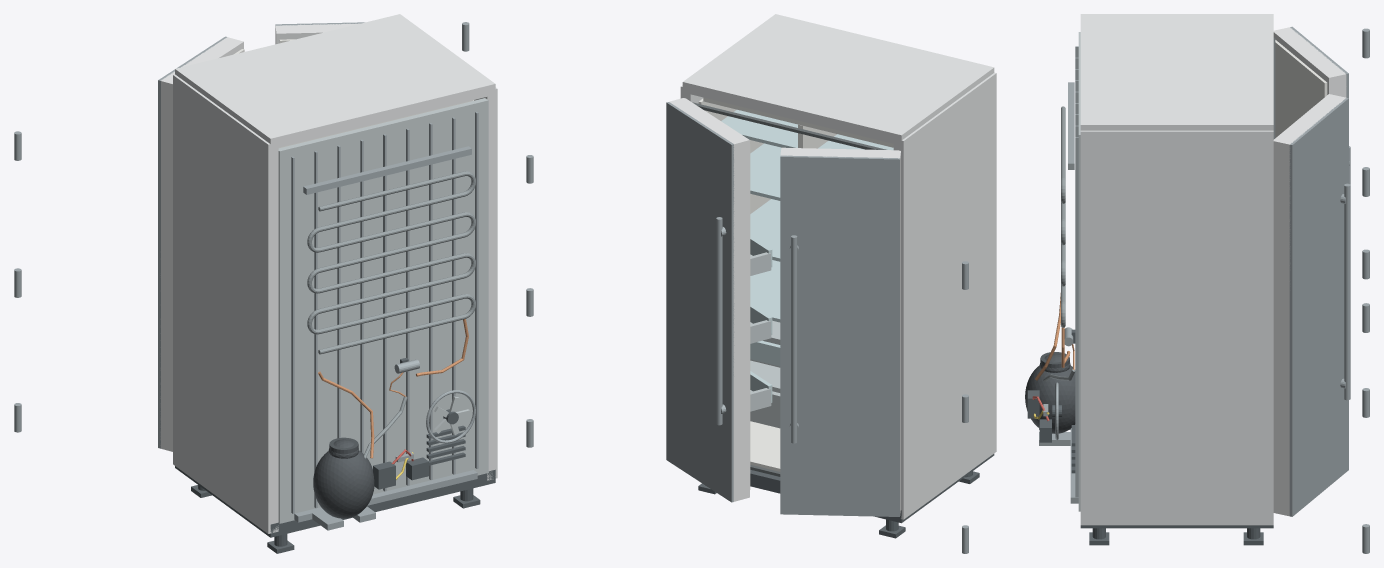
Rendered from Domestic_Refrigerator.glb.
The picture shows the model from 3 angles, left to right: view 1: azimuth 30°, elevation 25°; view 2: azimuth 150°, elevation 25°; view 3: azimuth 270°, elevation 25°; orthographic projection. The views are drawn at different scales.
Visible parts, largest first — view 1: Rear_Outer_Casing, Cabinet_Left_Side_Panel, Cabinet_Top_Panel, Condenser_Coil_Serpentine, Fresh_Food_Door_Panel, Cabinet_Right_Side_Panel, Compressor_Main_Shell, Cabinet_Base_Panel, Rear_Upper_Coil_Bracket, Rear_Casing_Vertical_Rib_1, Rear_Casing_Vertical_Rib_9, Rear_Lower_Cross_Bracket (+9 smaller); view 2: Fresh_Food_Door_Outer_Trim, Cabinet_Left_Side_Panel, Freezer_Door_Outer_Trim, Cabinet_Top_Panel, Freezer_Door_Panel, Freezer_Glass_Shelf_3, Freezer_Glass_Shelf_4, Fresh_Food_Door_Handle, Freezer_Door_Handle, Freezer_Glass_Shelf_1, Fresh_Food_Door_Panel, Interior_Floor_Liner (+7 smaller); view 3: Cabinet_Right_Side_Panel, Cabinet_Top_Panel, Freezer_Door_Outer_Trim, Freezer_Door_Panel, Fresh_Food_Door_Inner_Liner, Compressor_Main_Shell, Fresh_Food_Door_Panel, Freezer_Door_Handle, Rear_Casing_Vertical_Rib_9, Rear_Outer_Casing, Condenser_Coil_Serpentine, Cabinet_Base_Panel (+1 smaller).
Boxes of the visible parts, left/top/right/bottom form: Rear_Outer_Casing: left=278, top=98, right=488, bottom=523; Cabinet_Left_Side_Panel: left=173, top=74, right=278, bottom=533; Cabinet_Top_Panel: left=175, top=14, right=495, bottom=148; Condenser_Coil_Serpentine: left=307, top=171, right=475, bottom=354; Fresh_Food_Door_Panel: left=160, top=37, right=243, bottom=451; Cabinet_Right_Side_Panel: left=474, top=87, right=497, bottom=480; Compressor_Main_Shell: left=313, top=450, right=374, bottom=518; Cabinet_Base_Panel: left=175, top=466, right=495, bottom=537; Rear_Upper_Coil_Bracket: left=303, top=146, right=471, bottom=194; Rear_Casing_Vertical_Rib_1: left=291, top=156, right=294, bottom=513; Rear_Casing_Vertical_Rib_9: left=475, top=111, right=478, bottom=468; Rear_Lower_Cross_Bracket: left=294, top=470, right=477, bottom=522; Fresh_Food_Door_Outer_Trim: left=780, top=155, right=899, bottom=516; Cabinet_Left_Side_Panel: left=893, top=72, right=996, bottom=519; Freezer_Door_Outer_Trim: left=666, top=102, right=734, bottom=502; Cabinet_Top_Panel: left=682, top=14, right=994, bottom=144; Freezer_Door_Panel: left=669, top=98, right=749, bottom=501; Freezer_Glass_Shelf_3: left=750, top=143, right=781, bottom=200; Freezer_Glass_Shelf_4: left=721, top=109, right=797, bottom=147; Fresh_Food_Door_Handle: left=791, top=235, right=797, bottom=443; Freezer_Door_Handle: left=716, top=217, right=722, bottom=425; Freezer_Glass_Shelf_1: left=750, top=260, right=780, bottom=322; Fresh_Food_Door_Panel: left=780, top=147, right=900, bottom=515; Interior_Floor_Liner: left=750, top=421, right=780, bottom=471; Cabinet_Right_Side_Panel: left=1080, top=130, right=1273, bottom=525; Cabinet_Top_Panel: left=1080, top=14, right=1273, bottom=130; Freezer_Door_Outer_Trim: left=1289, top=97, right=1348, bottom=516; Freezer_Door_Panel: left=1273, top=94, right=1345, bottom=516; Fresh_Food_Door_Inner_Liner: left=1275, top=40, right=1327, bottom=137; Compressor_Main_Shell: left=1025, top=365, right=1075, bottom=433; Fresh_Food_Door_Panel: left=1273, top=27, right=1346, bottom=97; Freezer_Door_Handle: left=1344, top=183, right=1350, bottom=400; Rear_Casing_Vertical_Rib_9: left=1075, top=137, right=1078, bottom=497; Rear_Outer_Casing: left=1078, top=32, right=1080, bottom=511; Condenser_Coil_Serpentine: left=1061, top=106, right=1065, bottom=327; Cabinet_Base_Panel: left=1080, top=525, right=1273, bottom=528.
Size of the model in its own units: 1.98 by 1.75 by 1.29.
